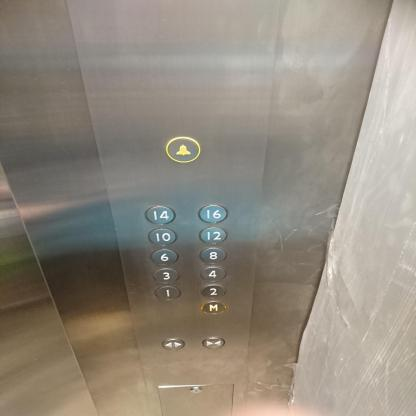1: (154, 285, 181, 300)
10: (147, 227, 177, 246)
12: (198, 226, 228, 244)
14: (144, 204, 176, 224)
16: (198, 204, 228, 223)
2: (200, 283, 226, 299)
3: (152, 267, 180, 284)
4: (199, 265, 227, 282)
6: (150, 248, 179, 265)
8: (199, 247, 227, 264)
M: (201, 300, 226, 314)
alarm: (165, 136, 200, 163)
close: (202, 336, 225, 348)
keyhole: (190, 386, 202, 394)
open: (161, 338, 185, 351)
